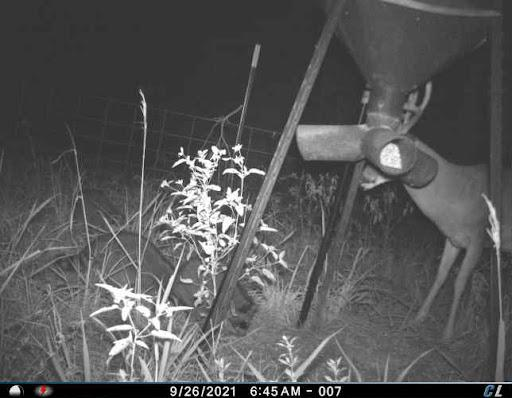Deer: (355, 78, 512, 352)
